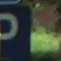Parking: (0, 0, 35, 59)
